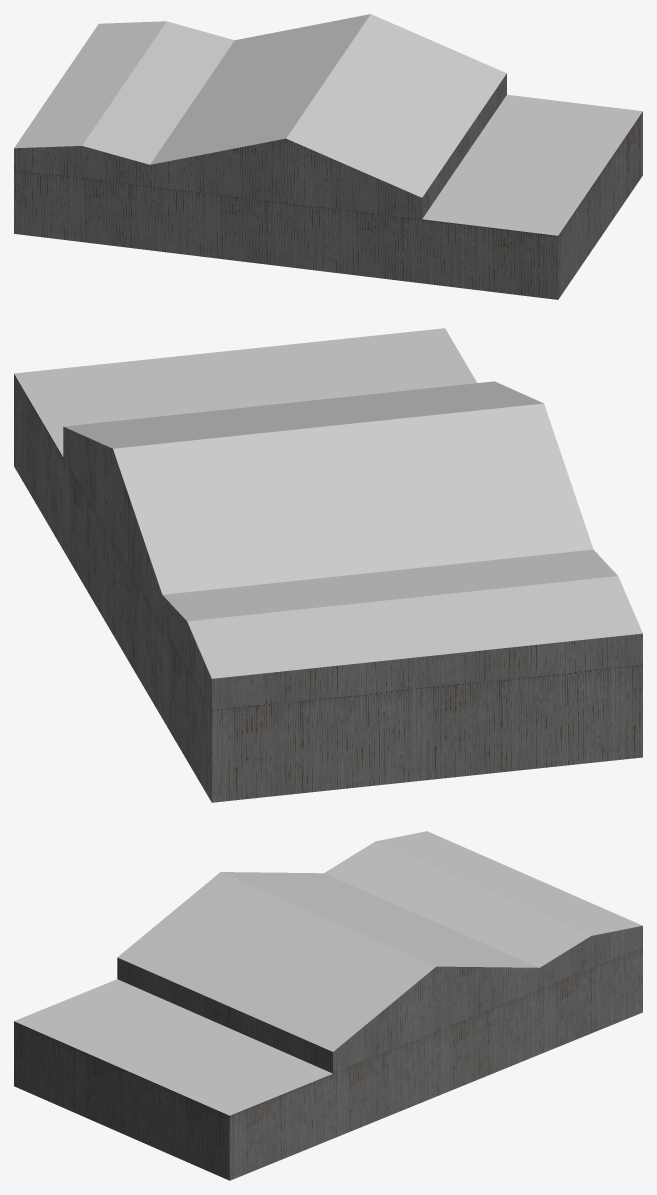
Rendered from techniTripleHangar.gltf.
3 renders of one model, top to bottom at view 1: azimuth 30°, elevation 25°; view 2: azimuth 150°, elevation 25°; view 3: azimuth 270°, elevation 25°, orthographic. The views are drawn at different scales.
Parts seen in each view (by area): view 1: node3, node2; view 2: node3, node2; view 3: node3, node2.
Part boxes in pixels (x1,y1,x2,y2): node3: (14, 14, 642, 235); node2: (14, 73, 642, 299); node3: (14, 328, 642, 678); node2: (14, 374, 642, 802); node3: (14, 831, 642, 1115); node2: (14, 926, 642, 1180).
Size of the model in its own units: 26.02 by 6 by 26.3.
